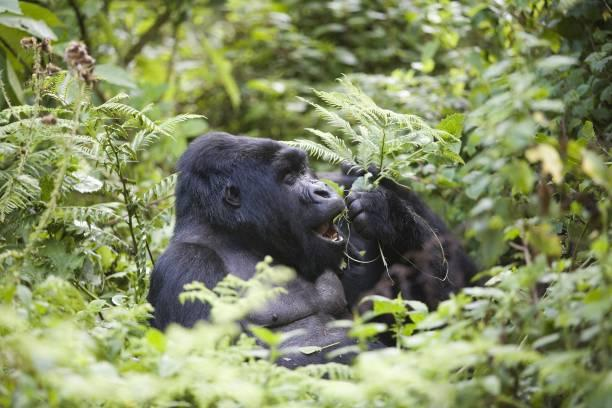goriile_montagne: (172, 127, 423, 347)
